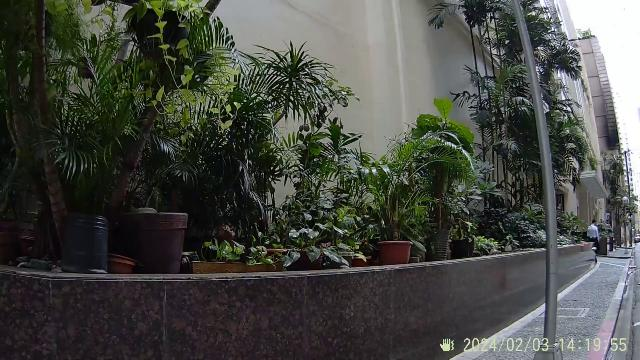lamp_post: (512, 4, 572, 360)
potted_plant: (56, 71, 192, 277), (326, 145, 414, 265), (412, 148, 478, 258)
